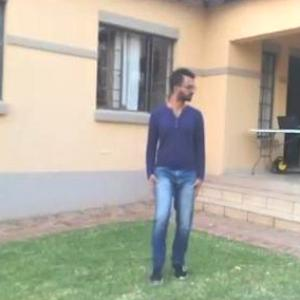follow: (135, 54, 211, 299)
